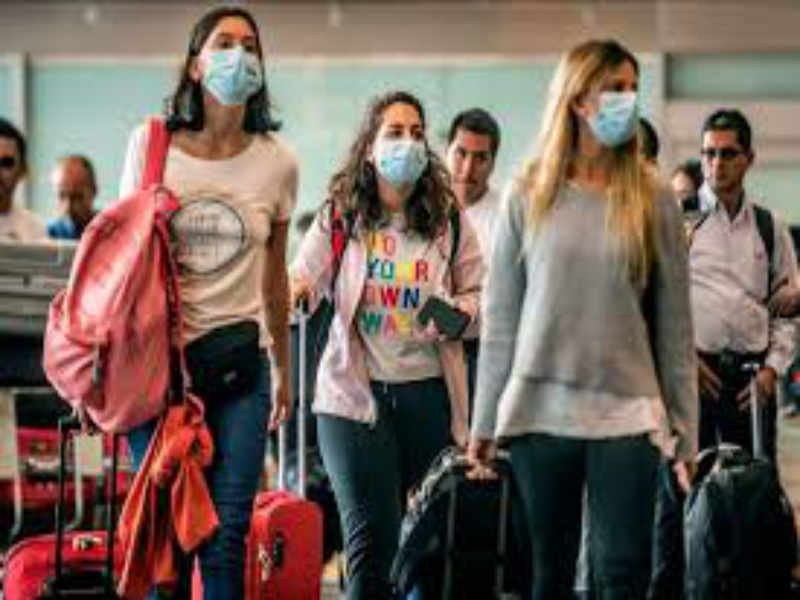ManaoArotava: (557, 42, 653, 169), (187, 12, 279, 129), (357, 94, 440, 194)
